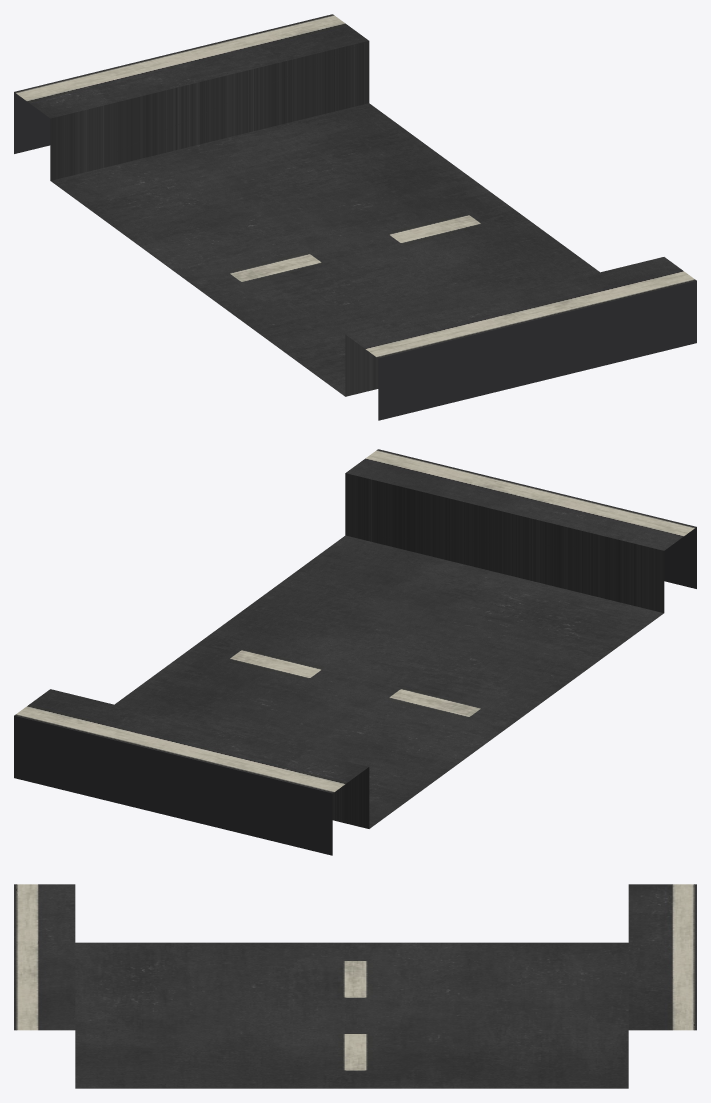
File: Straight.glb
3 renders of one model, top to bottom at view 1: azimuth 30°, elevation 25°; view 2: azimuth 150°, elevation 25°; view 3: azimuth 270°, elevation 25°, orthographic. The views are drawn at different scales.
Parts seen in each view (by area): view 1: Plane.001; view 2: Plane.001; view 3: Plane.001.
Boxes of the visible parts, left/top/right/bottom form: Plane.001: left=14, top=14, right=696, bottom=420; Plane.001: left=14, top=449, right=696, bottom=855; Plane.001: left=14, top=884, right=696, bottom=1088.
Bounding box in the file's own units: 1.01 × 0.1889 × 2.
1 material, 1 textured.
